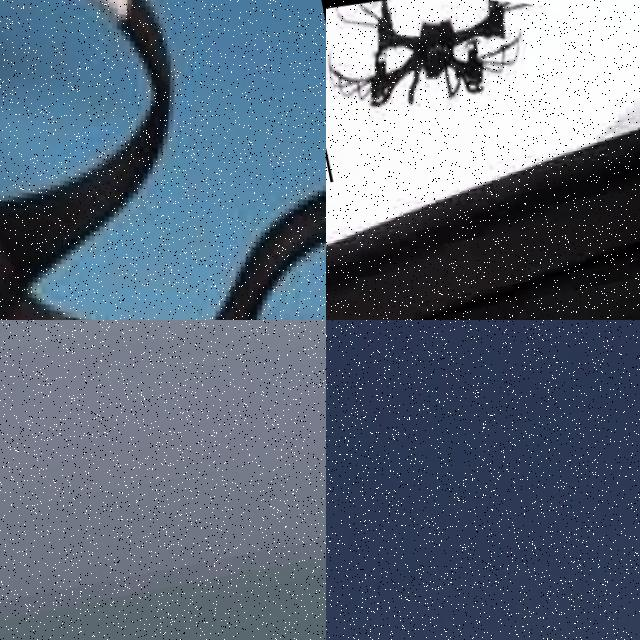0: (326, 0, 570, 182)
drone: (0, 0, 326, 320)
